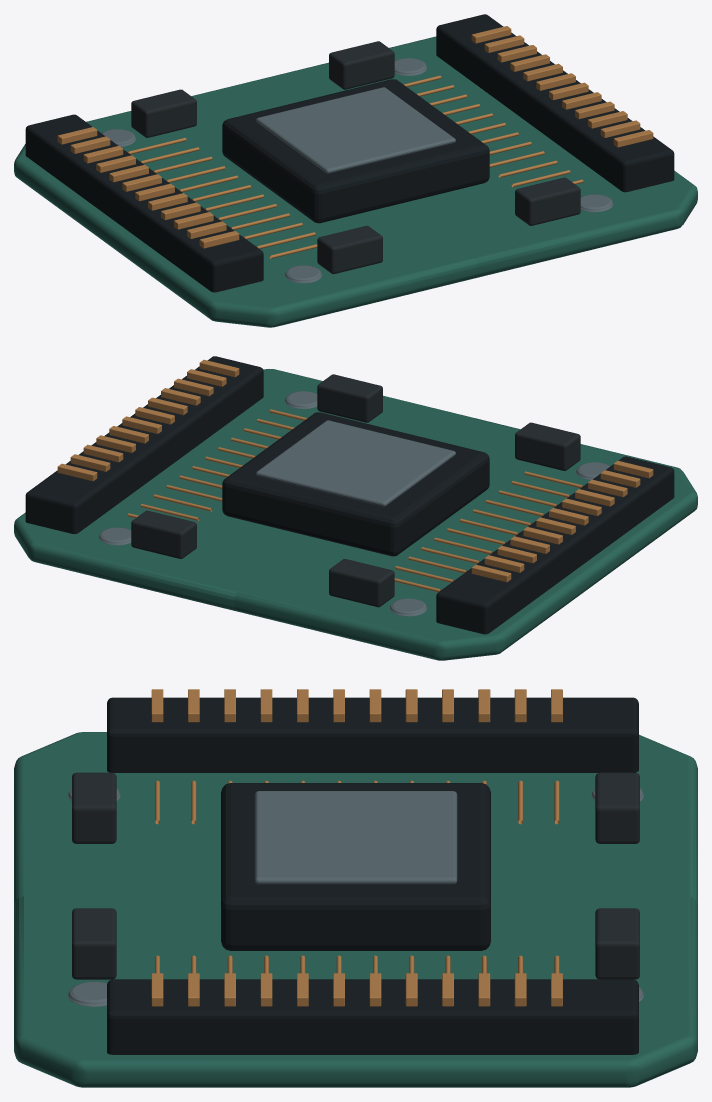
Rendered from basic_control_board.glb.
The picture shows the model from 3 angles, top to bottom: view 1: azimuth 30°, elevation 25°; view 2: azimuth 150°, elevation 25°; view 3: azimuth 270°, elevation 25°; orthographic projection. The views are drawn at different scales.
Visible parts, largest first — view 1: ControlPCB, EdgeConnector.001, ControlCore, CoreCap, Capacitor.003, Capacitor.002, BoardMount.002, BoardMount.003, ConnectorPad.023, ConnectorPad.012, ConnectorPad.022, ConnectorPad.013 (+10 smaller); view 2: ControlPCB, EdgeConnector.001, ControlCore, CoreCap, Capacitor.002, Capacitor.003, BoardMount.003, BoardMount.002, ConnectorPad.022, ConnectorPad.012, ConnectorPad.023, ConnectorPad.021 (+11 smaller); view 3: ControlPCB, EdgeConnector.001, ControlCore, CoreCap, Capacitor.002, Capacitor.003, BoardMount.002, ConnectorPad.012, ConnectorPad.015, ConnectorPad.018, ConnectorPad.019, ConnectorPad.021 (+7 smaller).
Boxes of the visible parts, x1=… form: ControlPCB: x1=14, y1=36, x2=697, y2=327; EdgeConnector.001: x1=25, y1=14, x2=674, y2=292; ControlCore: x1=222, y1=79, x2=489, y2=223; CoreCap: x1=256, y1=87, x2=455, y2=173; Capacitor.003: x1=131, y1=41, x2=394, y2=137; Capacitor.002: x1=317, y1=177, x2=580, y2=274; BoardMount.002: x1=285, y1=194, x2=613, y2=283; BoardMount.003: x1=101, y1=58, x2=426, y2=146; ConnectorPad.023: x1=57, y1=26, x2=511, y2=144; ConnectorPad.012: x1=199, y1=130, x2=653, y2=248; ConnectorPad.022: x1=70, y1=35, x2=524, y2=153; ConnectorPad.013: x1=187, y1=120, x2=640, y2=238; ControlPCB: x1=14, y1=369, x2=697, y2=660; EdgeConnector.001: x1=25, y1=356, x2=674, y2=634; ControlCore: x1=222, y1=412, x2=489, y2=556; CoreCap: x1=256, y1=420, x2=455, y2=506; Capacitor.002: x1=317, y1=374, x2=580, y2=470; Capacitor.003: x1=131, y1=510, x2=394, y2=607; BoardMount.003: x1=98, y1=527, x2=426, y2=616; BoardMount.002: x1=285, y1=391, x2=609, y2=479; ConnectorPad.022: x1=70, y1=454, x2=524, y2=572; ConnectorPad.012: x1=199, y1=359, x2=653, y2=478; ConnectorPad.023: x1=57, y1=463, x2=511, y2=582; ConnectorPad.021: x1=83, y1=444, x2=536, y2=563; ControlPCB: x1=14, y1=732, x2=697, y2=1087; EdgeConnector.001: x1=107, y1=697, x2=638, y2=1054; ControlCore: x1=221, y1=783, x2=490, y2=950; CoreCap: x1=254, y1=791, x2=457, y2=884; Capacitor.002: x1=72, y1=772, x2=116, y2=979; Capacitor.003: x1=595, y1=772, x2=639, y2=979; BoardMount.002: x1=68, y1=788, x2=120, y2=1006; ConnectorPad.012: x1=151, y1=689, x2=163, y2=1006; ConnectorPad.015: x1=260, y1=689, x2=272, y2=1006; ConnectorPad.018: x1=369, y1=689, x2=381, y2=1006; ConnectorPad.019: x1=405, y1=689, x2=417, y2=1006; ConnectorPad.021: x1=478, y1=689, x2=490, y2=1006.
Bounding box in the file's own units: 0.94 × 0.1165 × 0.81.
